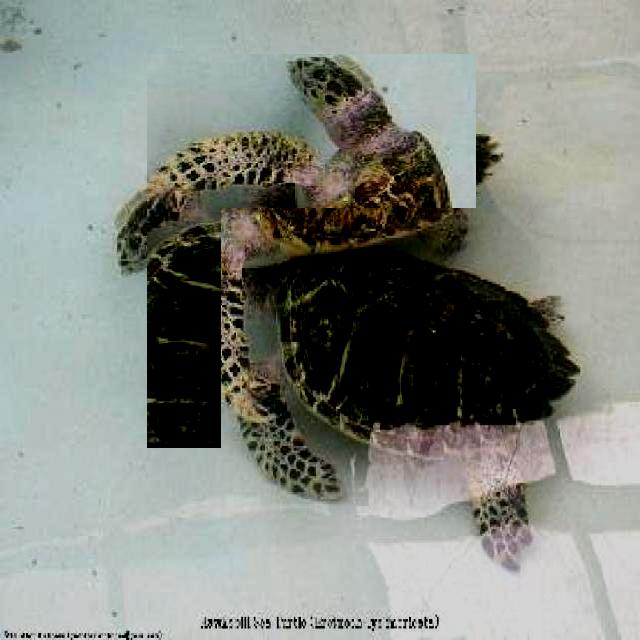Sea turtle: (222, 208, 586, 574), (130, 70, 492, 432)
